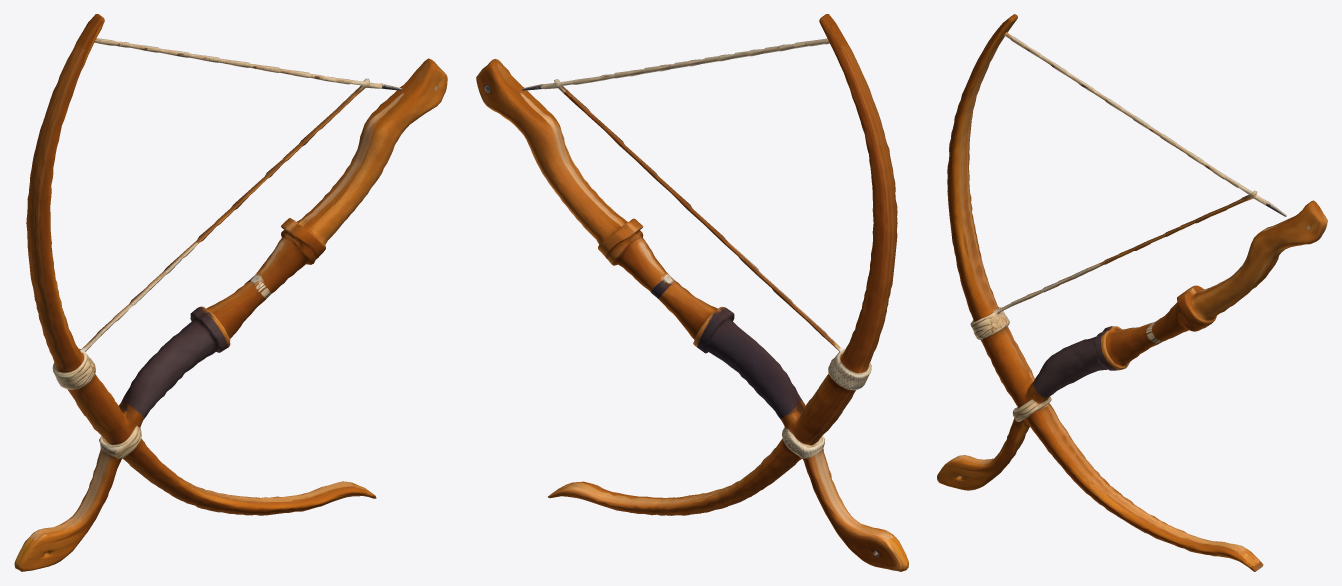
Rendered from prop_bow_v1.glb.
3 renders of one model, left to right at view 1: azimuth 30°, elevation 25°; view 2: azimuth 150°, elevation 25°; view 3: azimuth 330°, elevation 25°, orthographic. The views are drawn at different scales.
Size of the model in its own units: 1.56 by 1.9 by 0.1526.
Materials: 1 (1 with a texture image).
